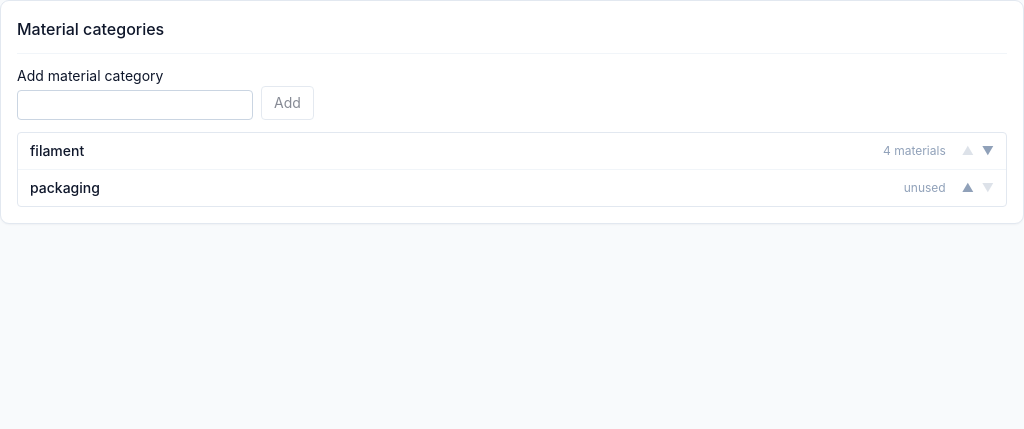
Scenario: ReferenceDataTable field types › marks the row dirty when a checkbox is toggled
What coordinates should you click on to do the following:
click the button "filament 4 materials"
I would click on:
 (57, 150)
Its box is top-left (18, 133), bottom-right (958, 169).
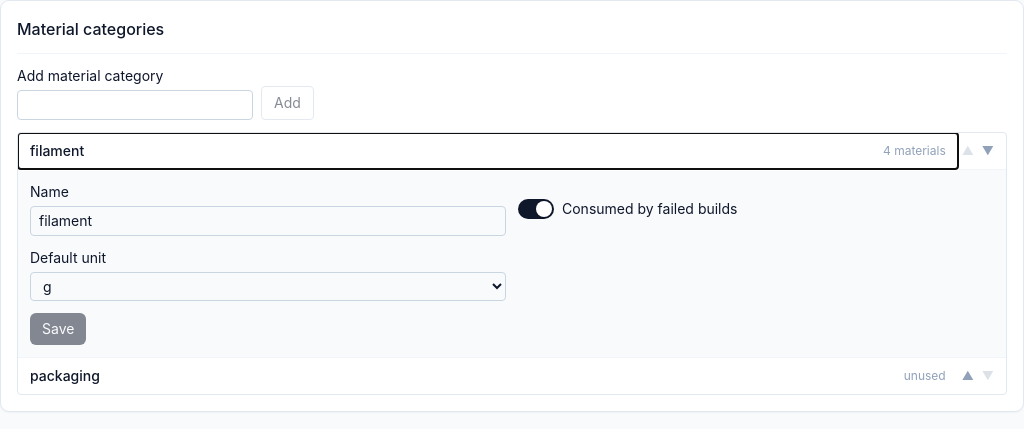
Check: the button "Save" is disabled, box top-left (30, 313), bottom-right (86, 345)
What coordinates should you click on to do the following:
click the checkbox named "filament Consumed by failed builds"
I would click on:
 (650, 209)
Its box is top-left (562, 199), bottom-right (738, 219).
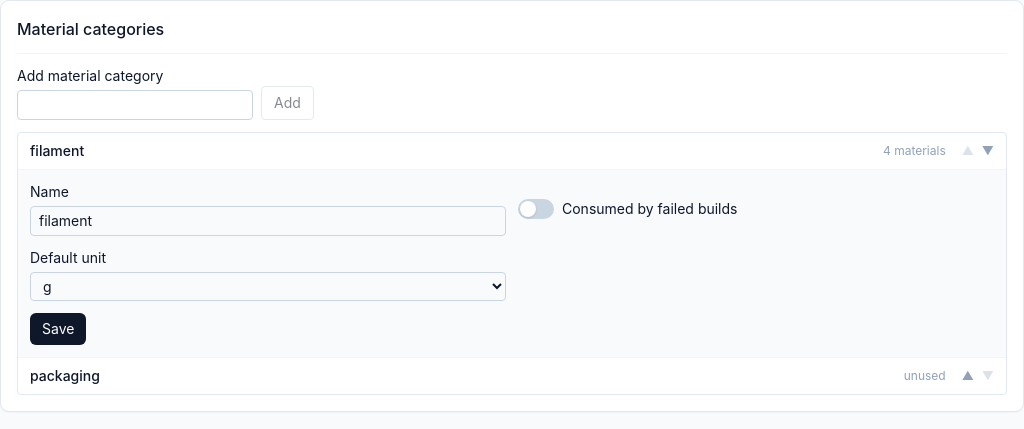
Check: the button "Save" is enabled, box top-left (30, 313), bottom-right (86, 345)
